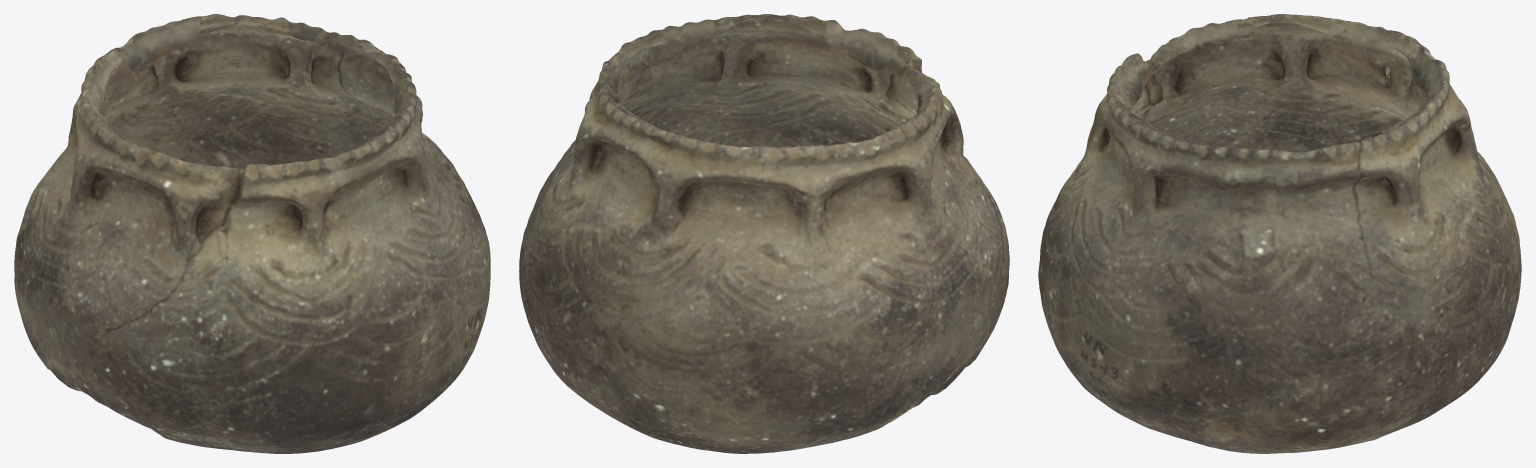
File: Ark_HM_388_HI.glb
3 views of the same model, side by side, from view 1: azimuth 30°, elevation 25°; view 2: azimuth 150°, elevation 25°; view 3: azimuth 270°, elevation 25° (orthographic).
Size of the model in its own units: 0.496 by 0.388 by 0.4994.
1 material, 1 textured.
